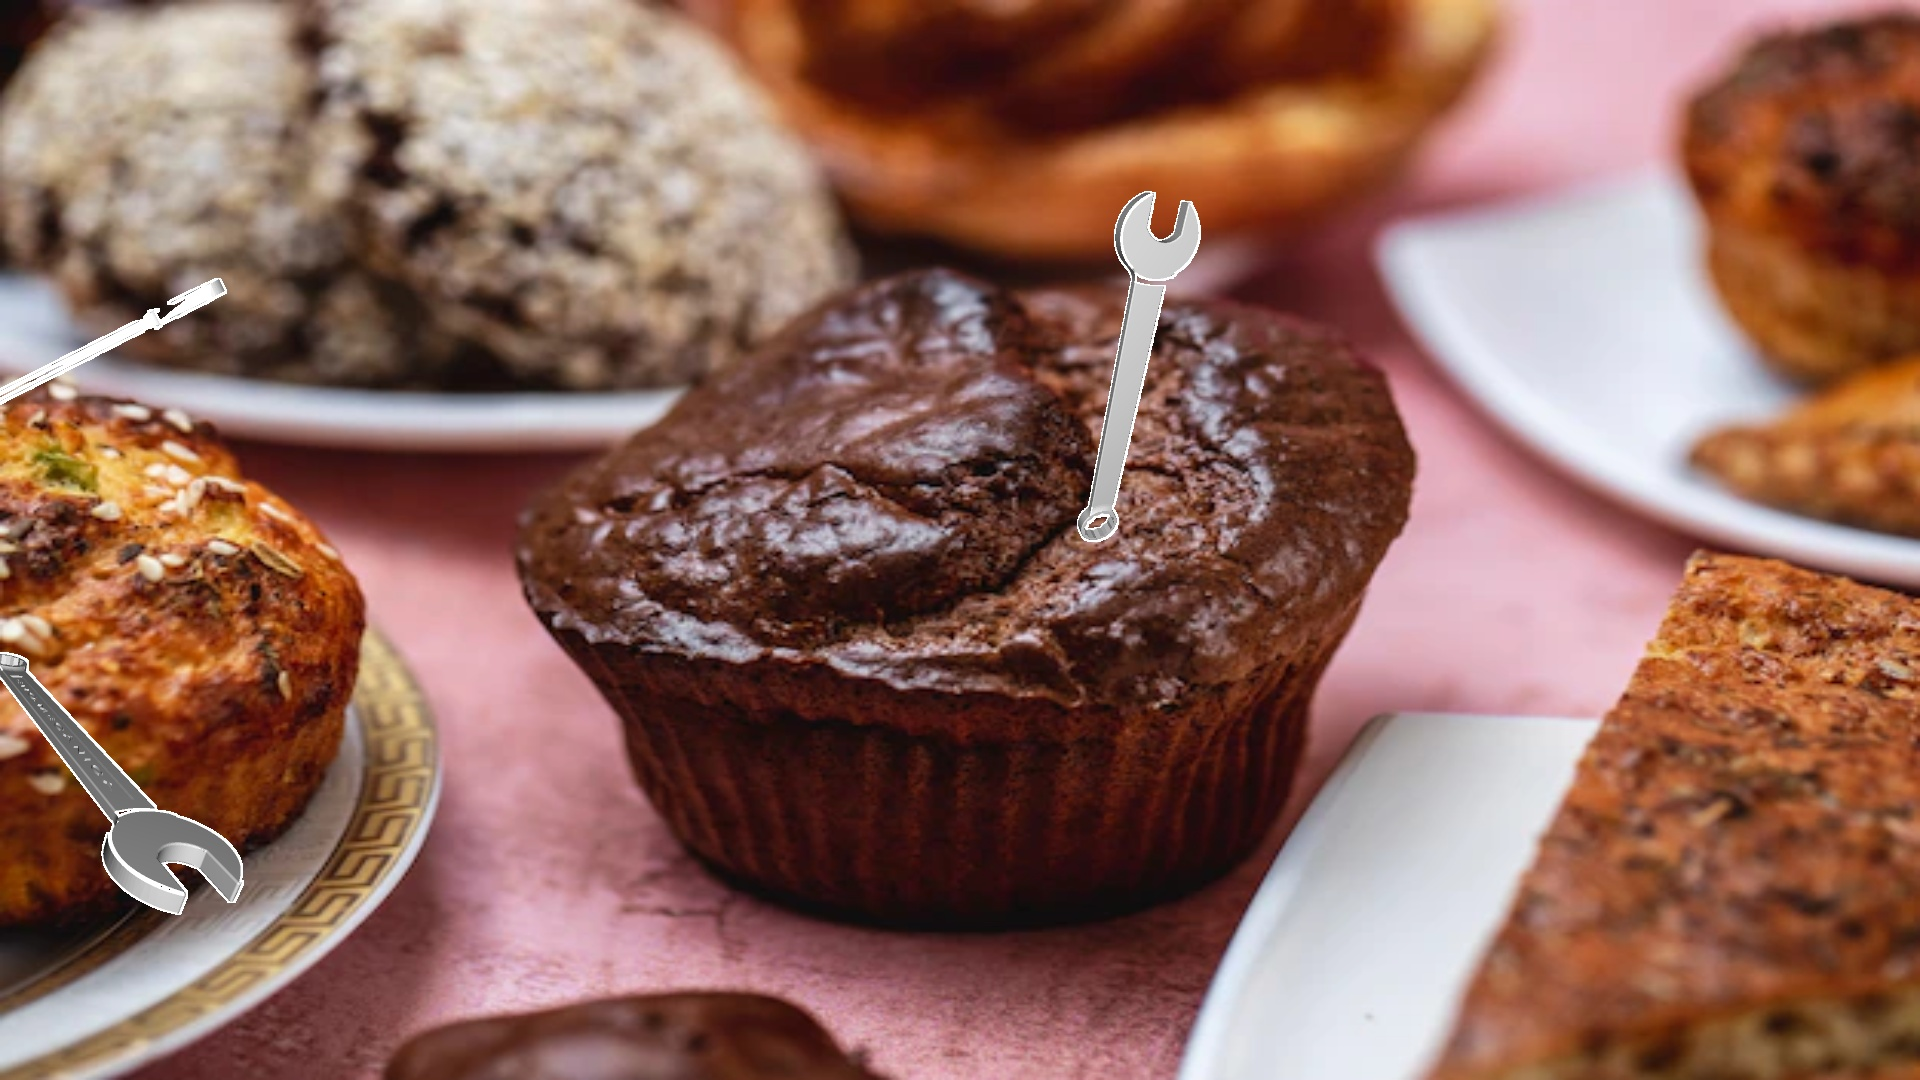Mixed Key: (0, 651, 243, 914), (1077, 191, 1200, 541), (0, 278, 225, 404)
